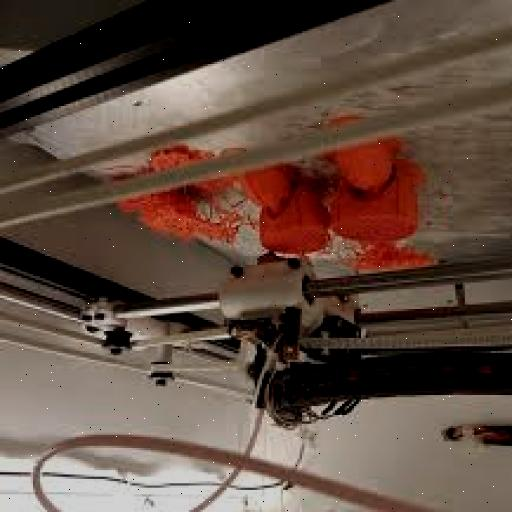spaghetti: (113, 148, 239, 258), (330, 232, 434, 280)
